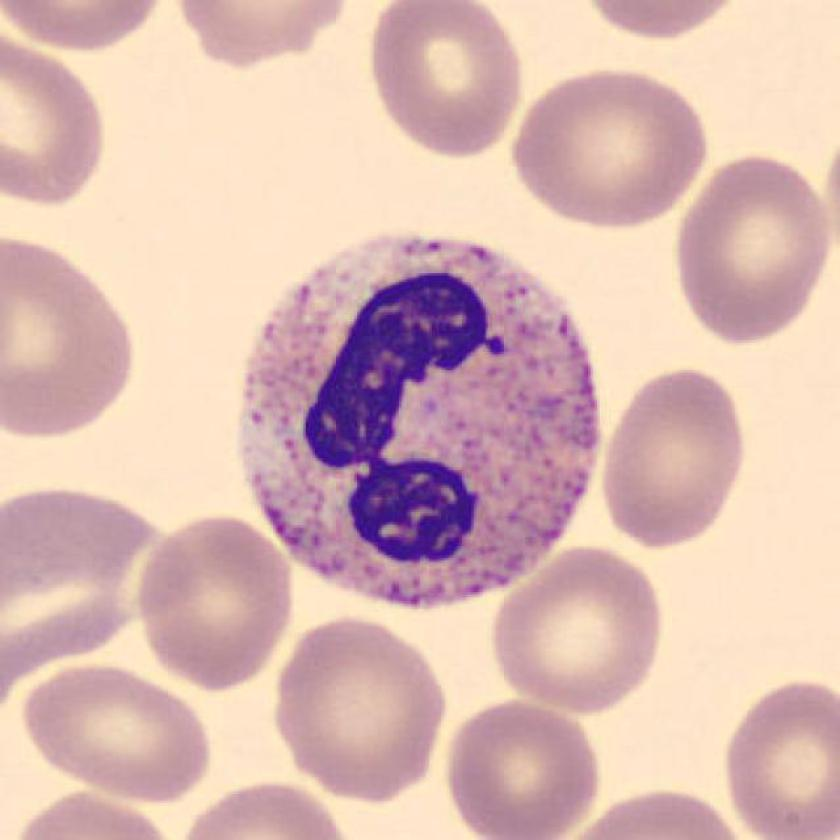neutrophil: (243, 232, 602, 610)
